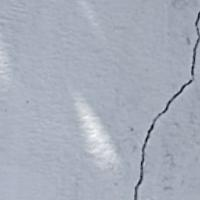crack: (111, 5, 199, 199)
